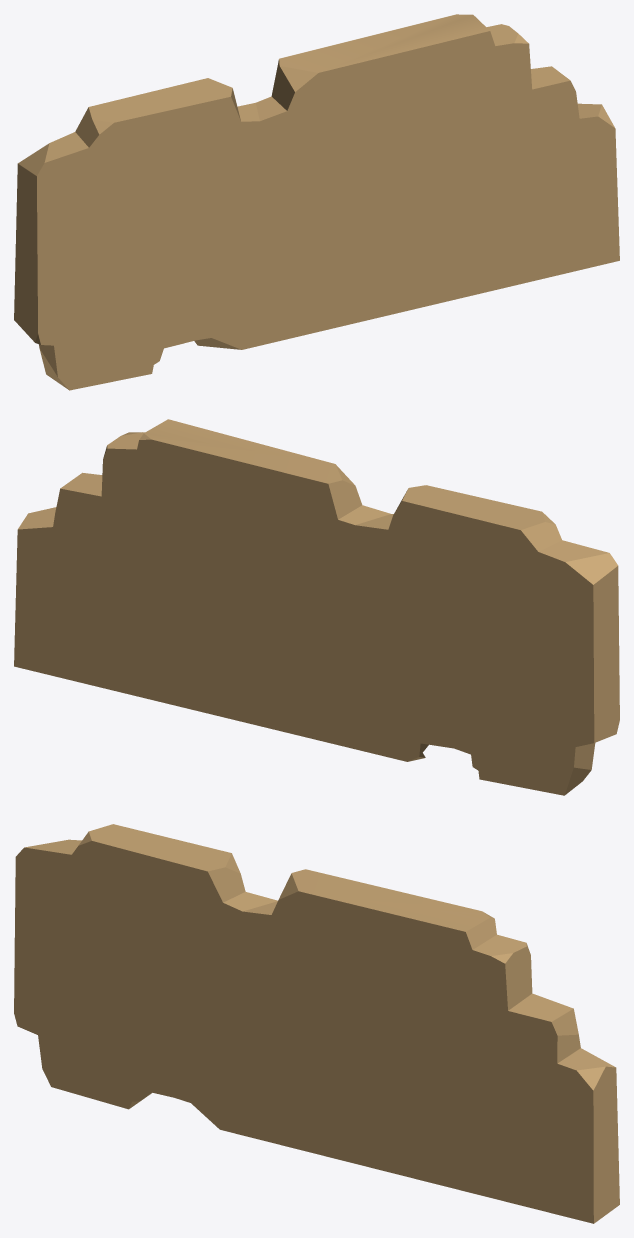
File: Ruins_StoneWall_02.fbx
The picture shows the model from 3 angles, top to bottom: view 1: azimuth 30°, elevation 25°; view 2: azimuth 150°, elevation 25°; view 3: azimuth 330°, elevation 25°; orthographic projection.
Parts seen in each view (by area): view 1: StoneFenceSeg_01.001; view 2: StoneFenceSeg_01.001; view 3: StoneFenceSeg_01.001.
Part boxes in pixels (bbox=[...]): StoneFenceSeg_01.001: bbox=[14, 14, 619, 390]; StoneFenceSeg_01.001: bbox=[14, 419, 619, 795]; StoneFenceSeg_01.001: bbox=[14, 824, 619, 1223].
Size of the model in its own units: 245 by 105 by 19.16.
